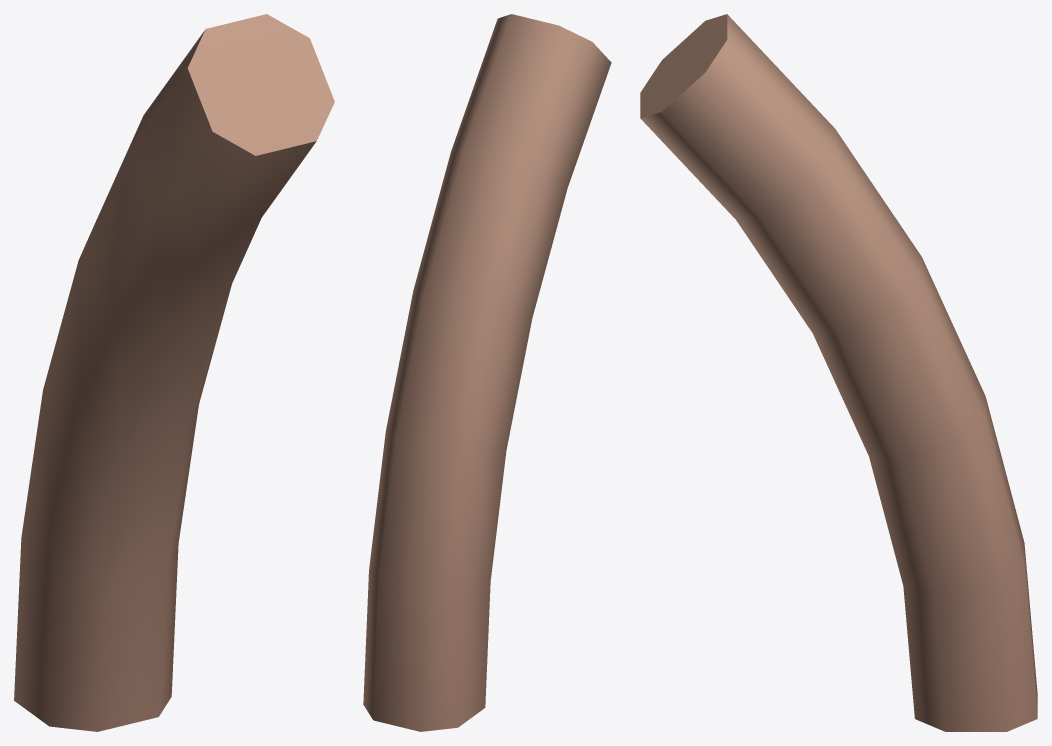
Rendered from twig-curved-a.glb.
3 renders of one model, left to right at view 1: azimuth 30°, elevation 25°; view 2: azimuth 150°, elevation 25°; view 3: azimuth 270°, elevation 25°, orthographic. The views are drawn at different scales.
Parts seen in each view (by area): view 1: twig-curved-a; view 2: twig-curved-a; view 3: twig-curved-a.
Boxes of the visible parts, box(x1,y1,x2,y2) form: twig-curved-a: box(14, 14, 334, 731); twig-curved-a: box(363, 14, 611, 731); twig-curved-a: box(640, 14, 1037, 731).
Bounding box in the file's own units: 0.05 × 0.3055 × 0.1619.
